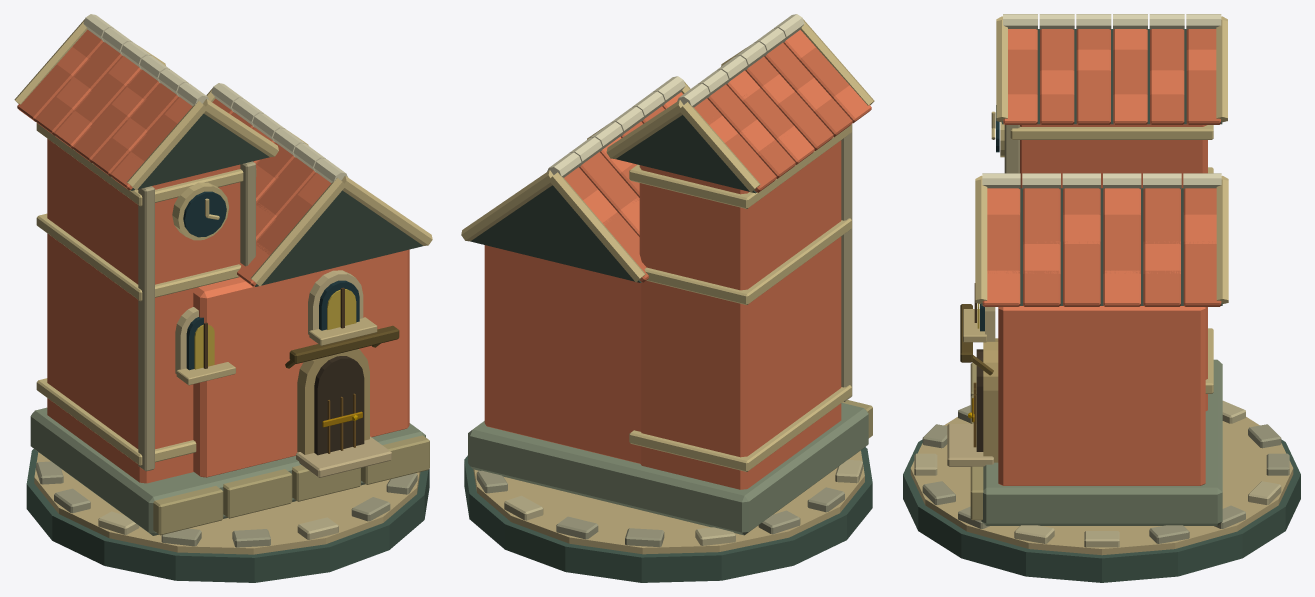
Rendered from city_clockhall.glb.
The picture shows the model from 3 angles, left to right: view 1: azimuth 30°, elevation 25°; view 2: azimuth 150°, elevation 25°; view 3: azimuth 270°, elevation 25°; orthographic projection. The views are drawn at different scales.
Visible parts, largest first — view 1: city_clockhall_static, city_clockhall_owner; view 2: city_clockhall_owner, city_clockhall_static; view 3: city_clockhall_owner, city_clockhall_static.
Part boxes in pixels (box(x1,y1,x2,y2)): city_clockhall_static: box(14, 14, 432, 582); city_clockhall_owner: box(17, 29, 409, 483); city_clockhall_owner: box(484, 30, 871, 489); city_clockhall_static: box(461, 14, 874, 582); city_clockhall_owner: box(982, 29, 1221, 485); city_clockhall_static: box(903, 14, 1300, 582).
Bounding box in the file's own units: 0.47 × 0.584 × 0.47.
